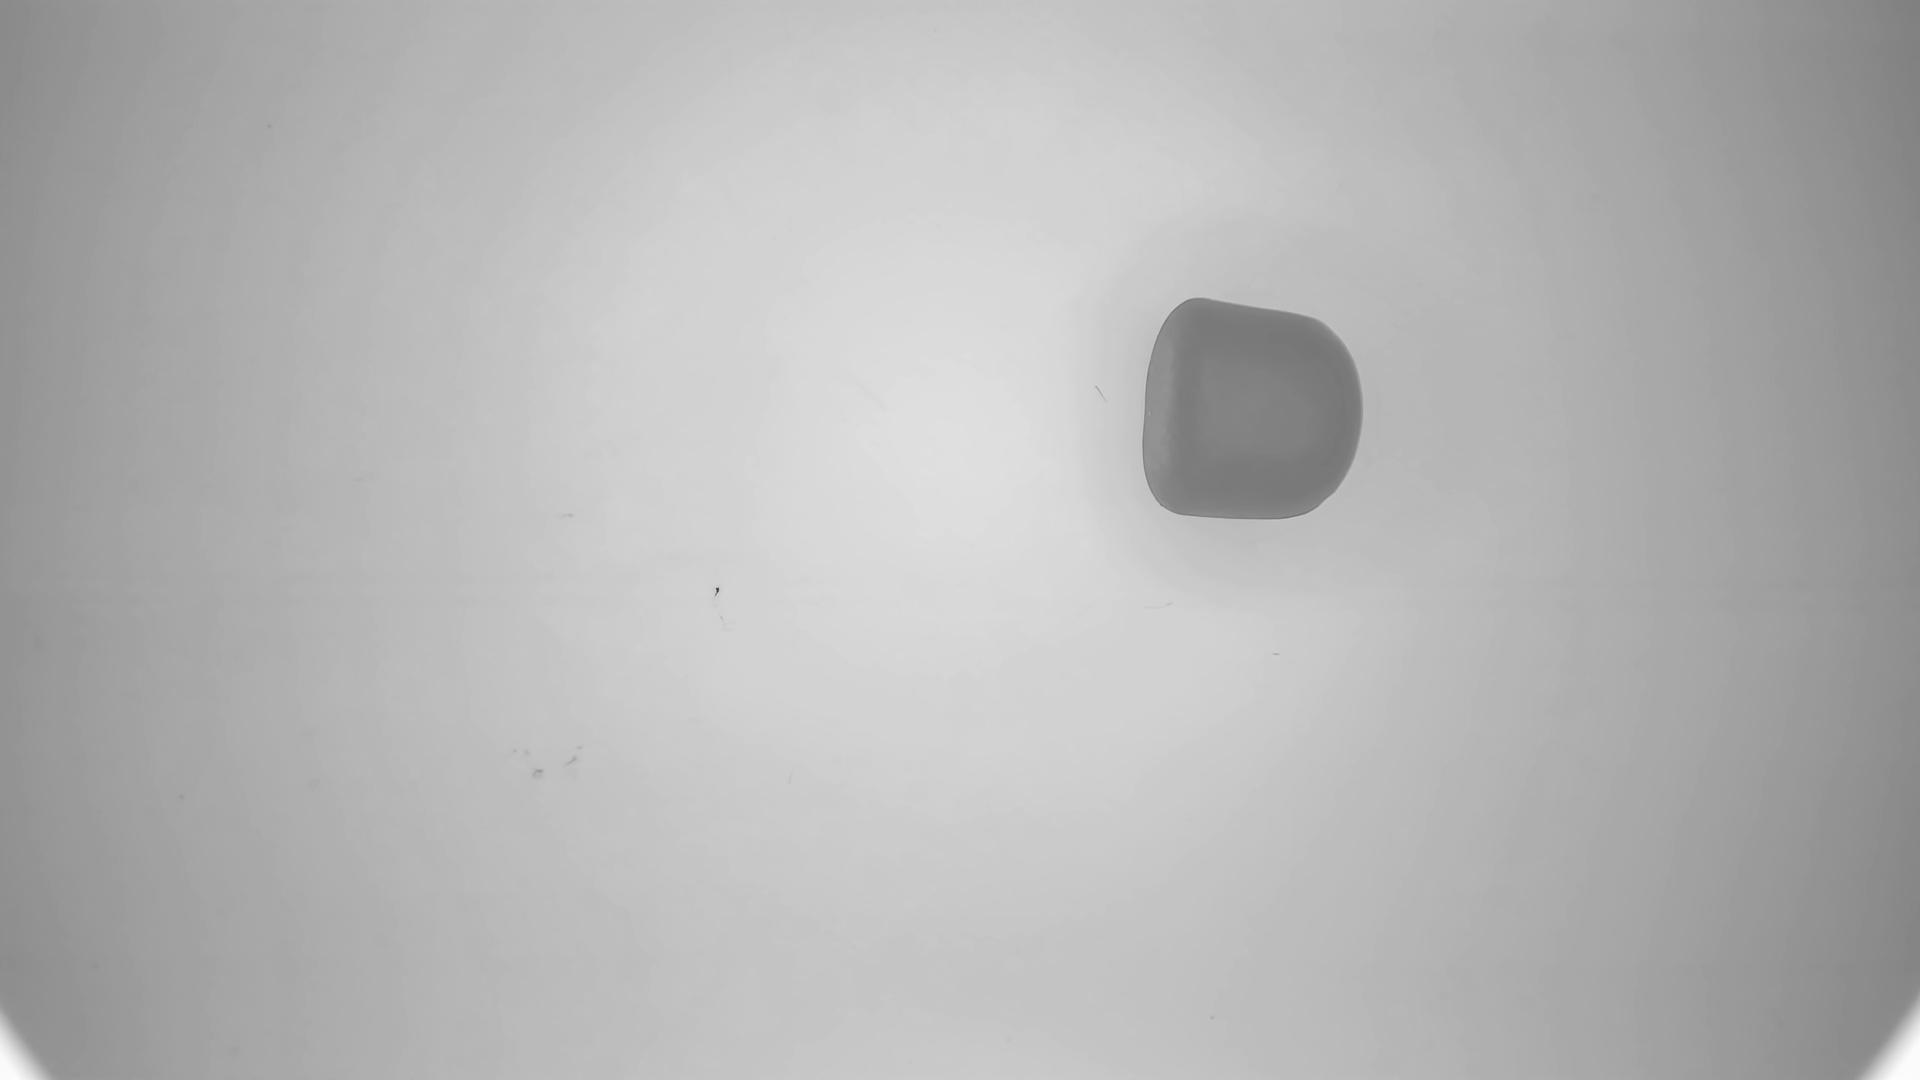normal: (1143, 295, 1366, 524)
